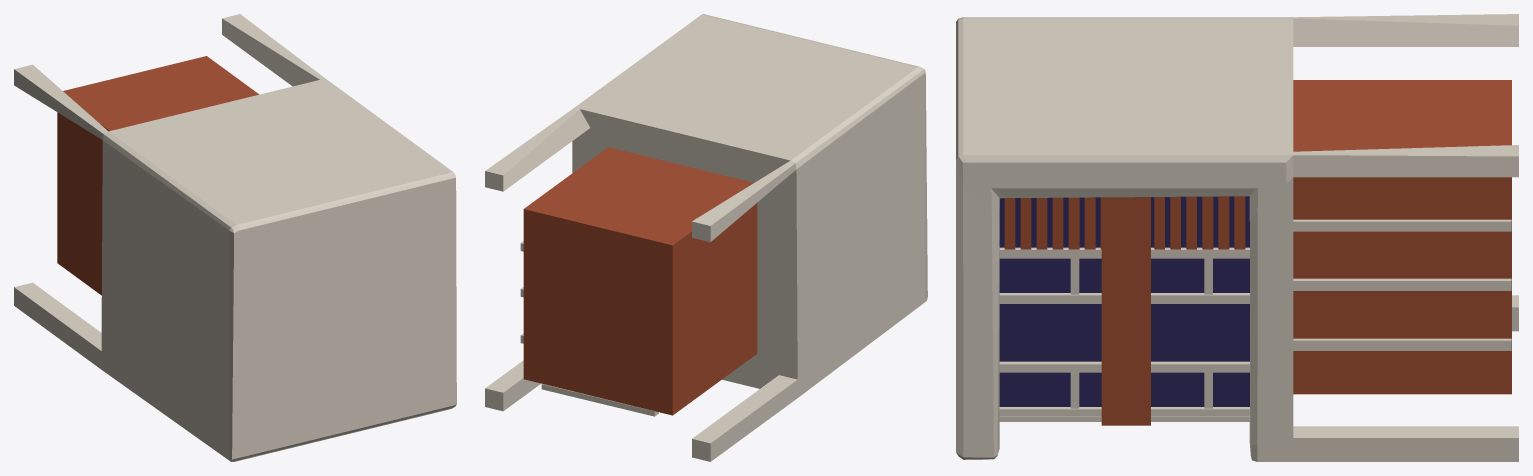
3 views of the same model, side by side, from view 1: azimuth 30°, elevation 25°; view 2: azimuth 150°, elevation 25°; view 3: azimuth 270°, elevation 25° (orthographic). The views are drawn at different scales.
Visible parts, largest first — view 1: shadeWhite, shadeBrown; view 2: shadeWhite, shadeBrown; view 3: shadeWhite, shadeBrown, shadeDarkBlue.
Part boxes in pixels (x1=…): shadeWhite: x1=14, y1=14, x2=456, y2=461; shadeBrown: x1=57, y1=56, x2=258, y2=295; shadeWhite: x1=485, y1=14, x2=927, y2=461; shadeBrown: x1=523, y1=147, x2=757, y2=415; shadeWhite: x1=956, y1=14, x2=1518, y2=461; shadeBrown: x1=1004, y1=80, x2=1511, y2=425; shadeDarkBlue: x1=999, y1=196, x2=1249, y2=406.
Bounding box in the file's own units: 2.76 × 2.77 × 4.61.
